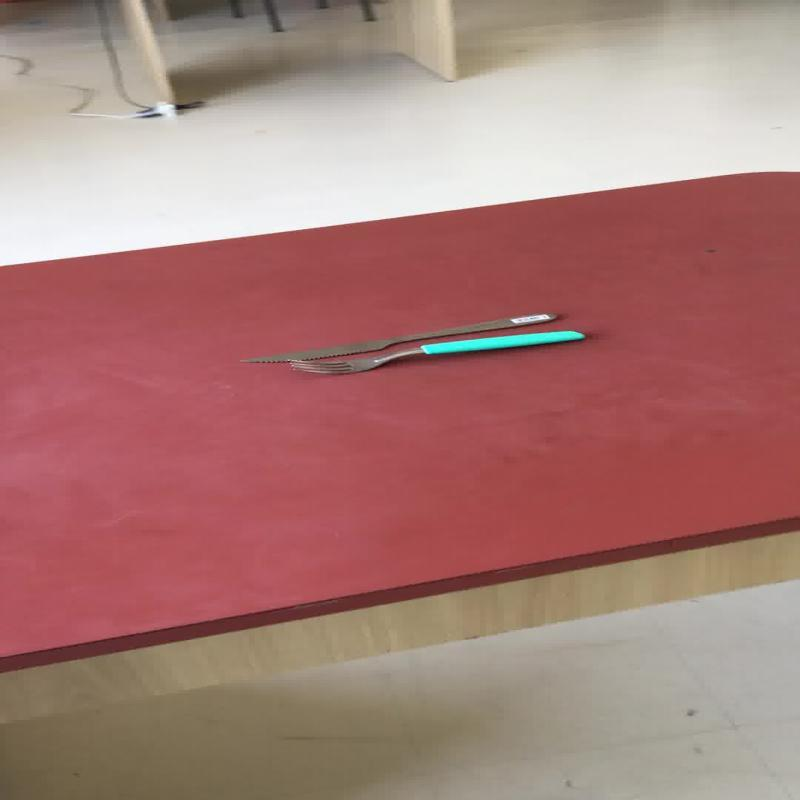fork: (287, 328, 584, 374)
knife: (238, 310, 558, 364)
